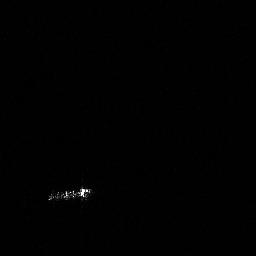ship: (44, 184, 97, 202)
